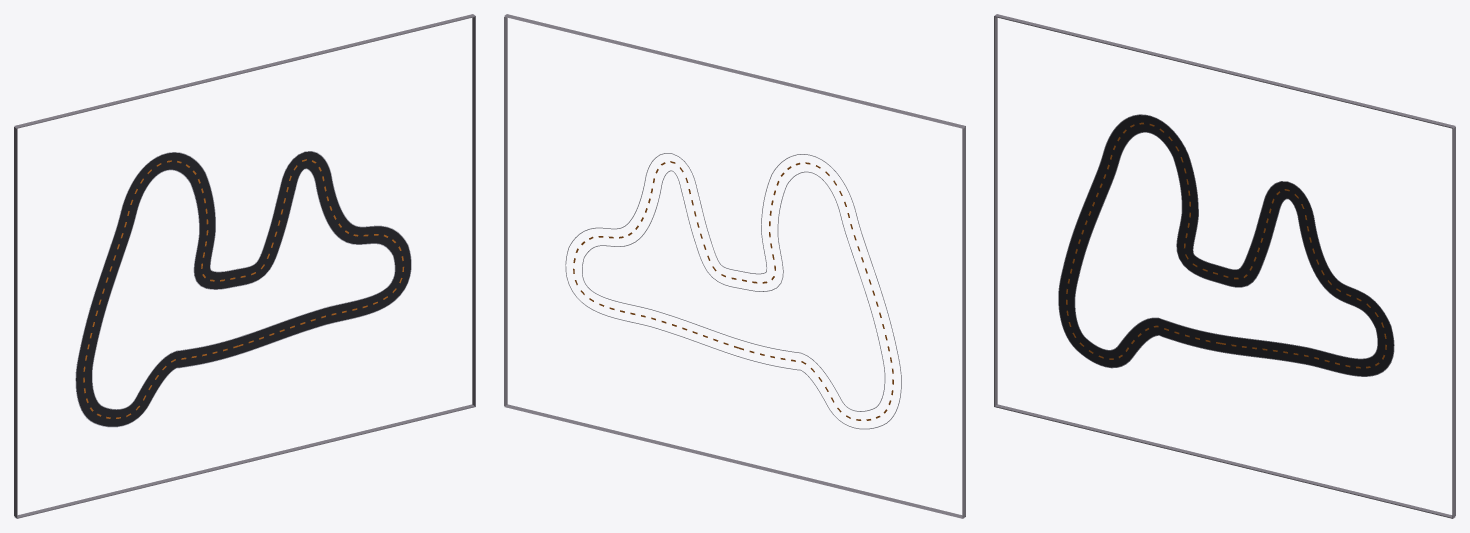
The model's file is track.obj.
The picture shows the model from 3 angles, left to right: view 1: azimuth 30°, elevation 25°; view 2: azimuth 150°, elevation 25°; view 3: azimuth 330°, elevation 25°; orthographic projection.
Bounding box in the file's own units: 28.7 × 23.36 × 0.3.
Materials: 4 (4 with a texture image).
